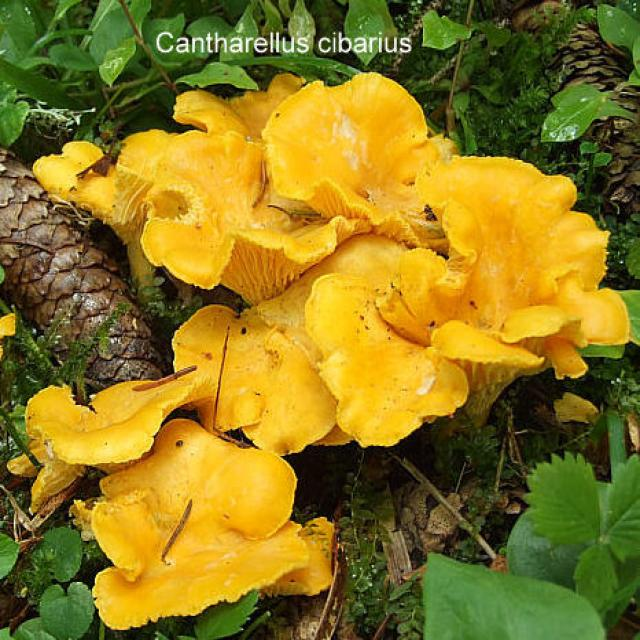chanterelle: (415, 156, 630, 391), (91, 419, 309, 630), (140, 123, 338, 306), (262, 74, 444, 221)
